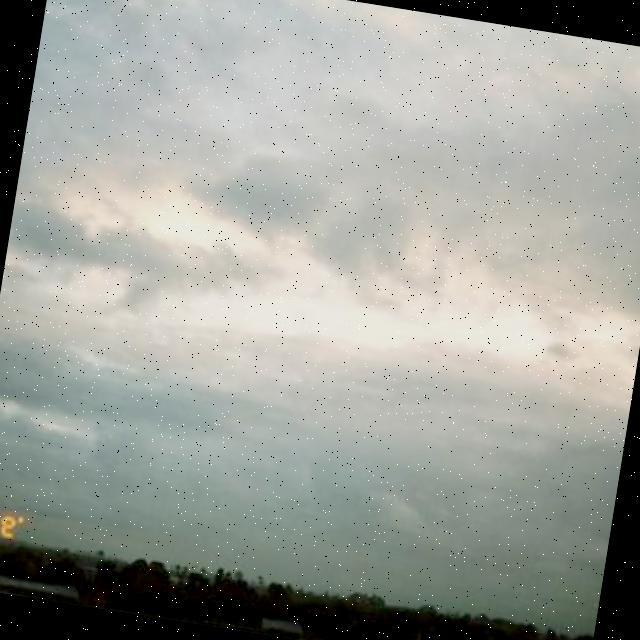Sc: (1, 1, 640, 568)
